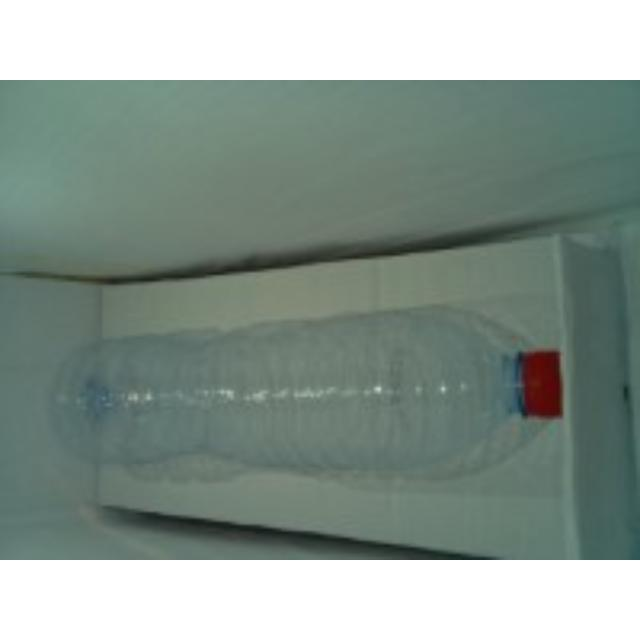Plastico descartable: (518, 350, 562, 416)
